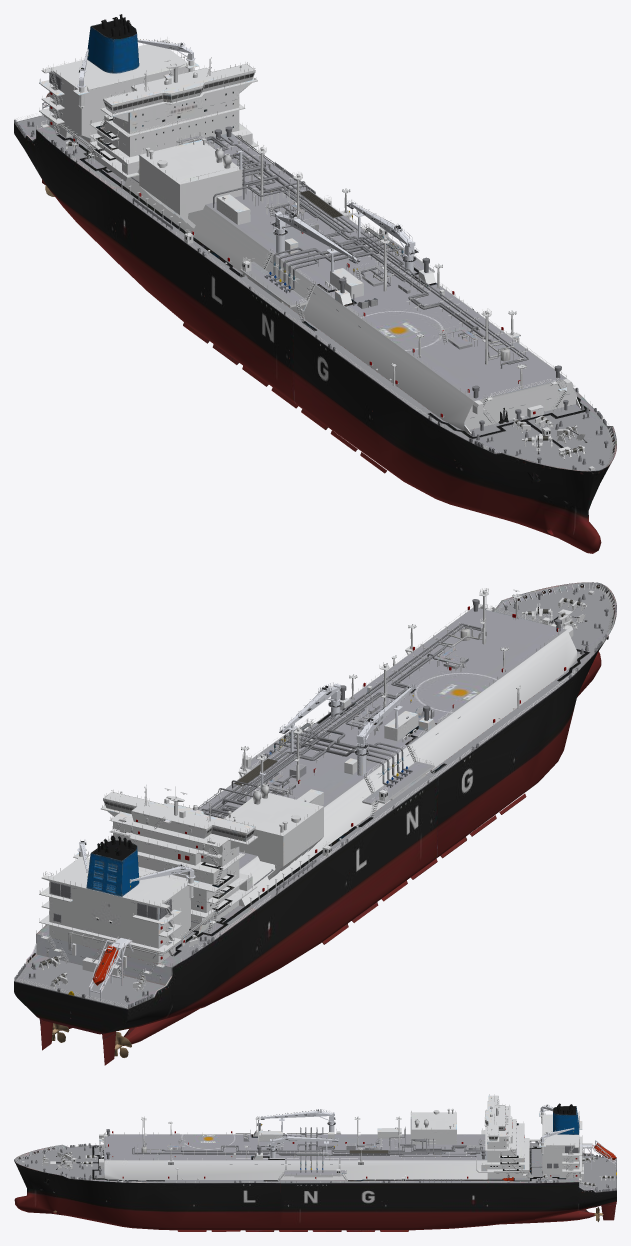
The model's file is shipModelData-lng.glb.
3 renders of one model, top to bottom at view 1: azimuth 30°, elevation 25°; view 2: azimuth 150°, elevation 25°; view 3: azimuth 270°, elevation 25°, orthographic. The views are drawn at different scales.
Visible parts, largest first — view 1: yy3d-LNGSHIP0021, yy3d-LNGSHIP0005, yy3d-LNGSHIP0009, yy3d-LNGSHIP0010, yy3d-LNGSHIP0004, yy3d-LNGSHIP0017; view 2: yy3d-LNGSHIP0021, yy3d-LNGSHIP0005, yy3d-LNGSHIP0009, yy3d-LNGSHIP0010, yy3d-LNGSHIP0004, yy3d-LNGSHIP0017, yy3d-LNGSHIP0007; view 3: yy3d-LNGSHIP0005, yy3d-LNGSHIP0021, yy3d-LNGSHIP0009, yy3d-LNGSHIP0010, yy3d-LNGSHIP0004, yy3d-LNGSHIP0017, yy3d-LNGSHIP0007.
Boxes of the visible parts, left/top/right/bottom form: yy3d-LNGSHIP0021: left=39, top=19, right=590, bottom=451; yy3d-LNGSHIP0005: left=14, top=115, right=616, bottom=553; yy3d-LNGSHIP0009: left=14, top=14, right=614, bottom=483; yy3d-LNGSHIP0010: left=43, top=115, right=528, bottom=368; yy3d-LNGSHIP0004: left=77, top=39, right=418, bottom=274; yy3d-LNGSHIP0017: left=14, top=37, right=609, bottom=452; yy3d-LNGSHIP0021: left=39, top=604, right=590, bottom=977; yy3d-LNGSHIP0005: left=14, top=582, right=616, bottom=1065; yy3d-LNGSHIP0009: left=14, top=583, right=614, bottom=1057; yy3d-LNGSHIP0010: left=68, top=623, right=486, bottom=955; yy3d-LNGSHIP0004: left=77, top=682, right=416, bottom=887; yy3d-LNGSHIP0017: left=14, top=588, right=609, bottom=1008; yy3d-LNGSHIP0007: left=89, top=938, right=133, bottom=1001; yy3d-LNGSHIP0005: left=14, top=1143, right=616, bottom=1231; yy3d-LNGSHIP0021: left=50, top=1095, right=584, bottom=1182; yy3d-LNGSHIP0009: left=15, top=1095, right=616, bottom=1221; yy3d-LNGSHIP0010: left=132, top=1127, right=580, bottom=1178; yy3d-LNGSHIP0004: left=259, top=1104, right=574, bottom=1158; yy3d-LNGSHIP0017: left=66, top=1094, right=592, bottom=1182; yy3d-LNGSHIP0007: left=502, top=1140, right=616, bottom=1182.
Bounding box in the file's own units: 31.66 × 41.89 × 197.
8 materials, 6 textured.
